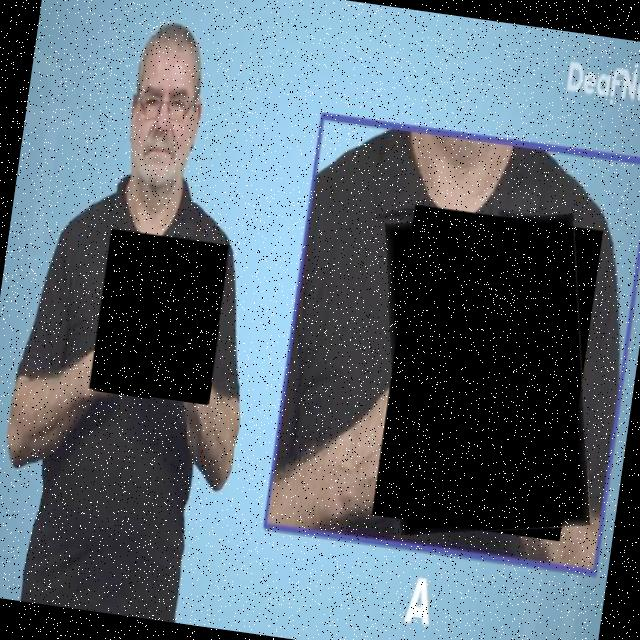A: (359, 198, 621, 554), (90, 231, 232, 408)
